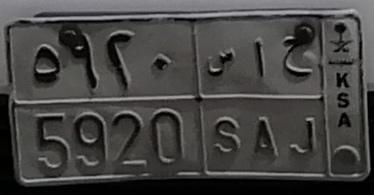0: (149, 52, 184, 167)
2: (106, 29, 148, 173)
5: (32, 44, 69, 175)
9: (69, 35, 107, 174)
A: (250, 37, 281, 159)
J: (282, 35, 318, 158)
S: (206, 46, 241, 157)
